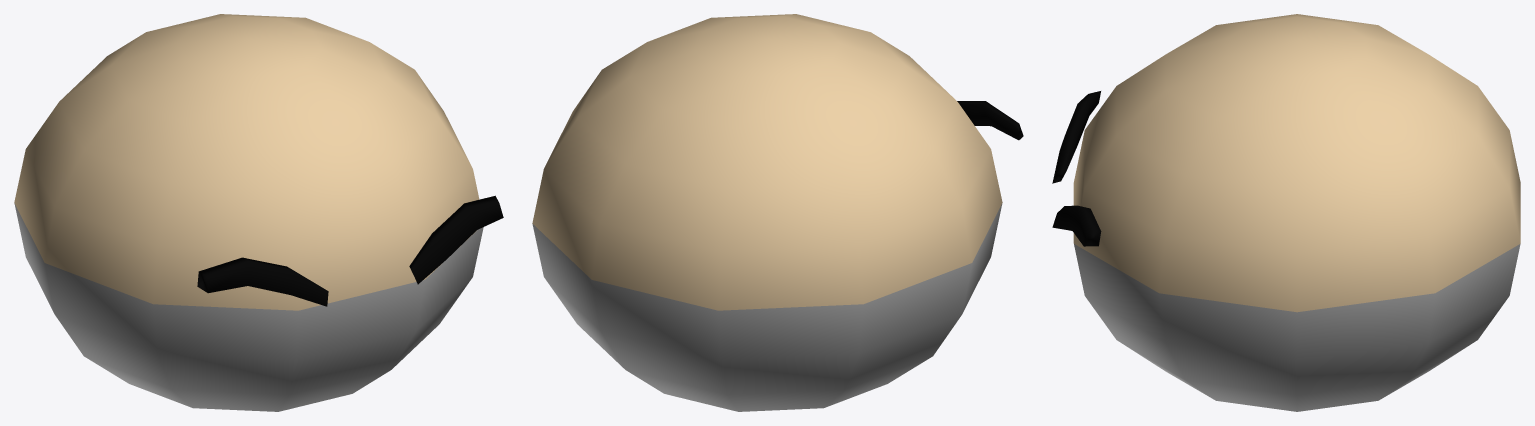
Rendered from skin_head_3.fbx.
The picture shows the model from 3 angles, left to right: view 1: azimuth 30°, elevation 25°; view 2: azimuth 150°, elevation 25°; view 3: azimuth 270°, elevation 25°; orthographic projection.
Visible parts, largest first — view 1: polySurface10; view 2: polySurface10; view 3: polySurface10.
Part boxes in pixels (bbox=[...]): polySurface10: bbox=[14, 14, 503, 411]; polySurface10: bbox=[532, 14, 1023, 411]; polySurface10: bbox=[1052, 14, 1520, 411].
Size of the model in its own units: 57.86 by 47.05 by 57.67.
